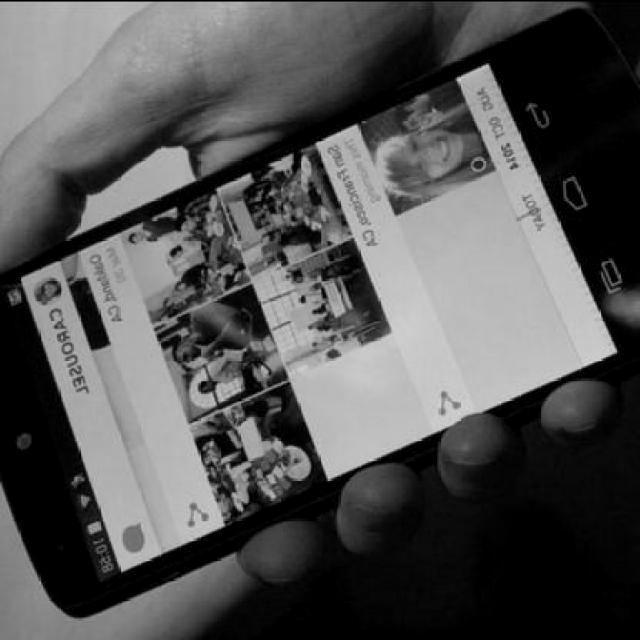fake: (0, 58, 577, 618)
